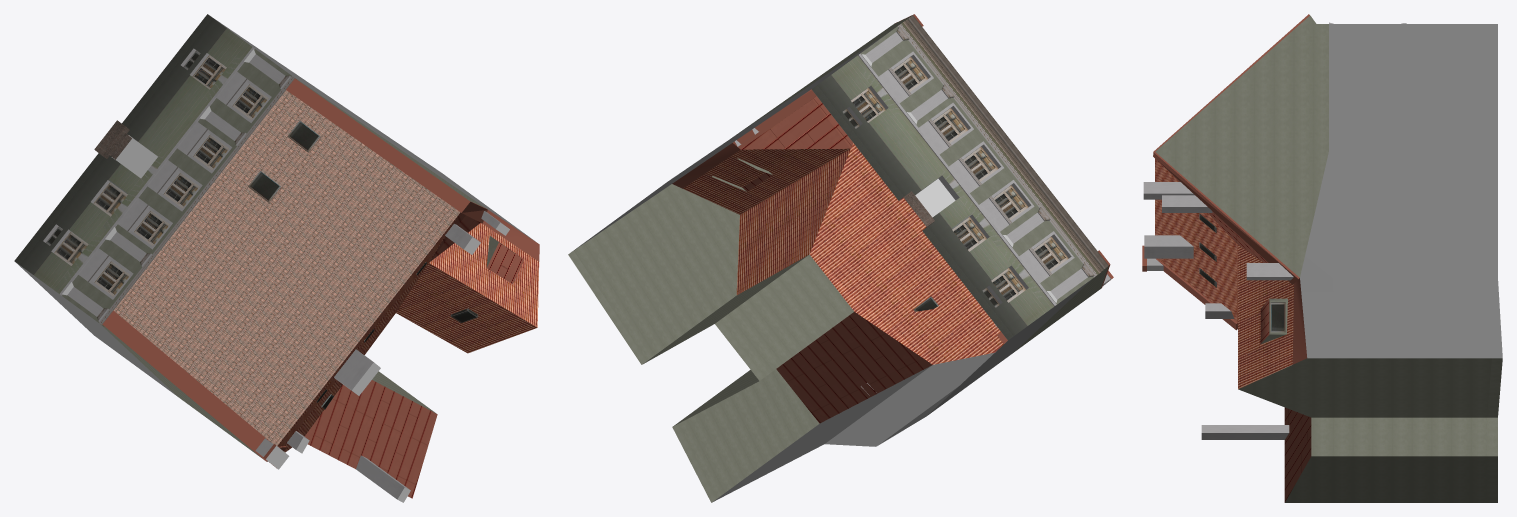
File: Lai_12.obj
The picture shows the model from 3 angles, left to right: view 1: azimuth 30°, elevation 25°; view 2: azimuth 150°, elevation 25°; view 3: azimuth 270°, elevation 25°; orthographic projection.
Visible parts, largest first — view 1: Lai_12; view 2: Lai_12; view 3: Lai_12.
Boxes of the visible parts, <box> form: Lai_12: <box>14,14,539,502</box>; Lai_12: <box>568,14,1113,502</box>; Lai_12: <box>1142,14,1502,502</box>.
Bounding box in the file's own units: 25.59 × 24.51 × 18.31.
